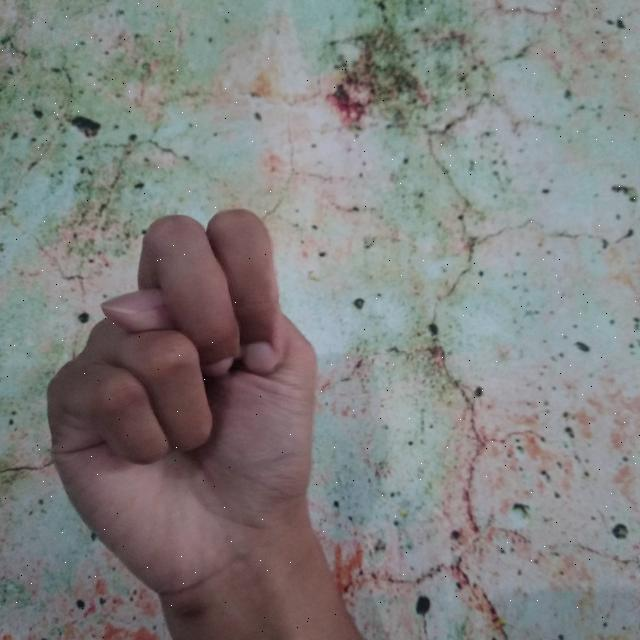N: (40, 206, 366, 640)
